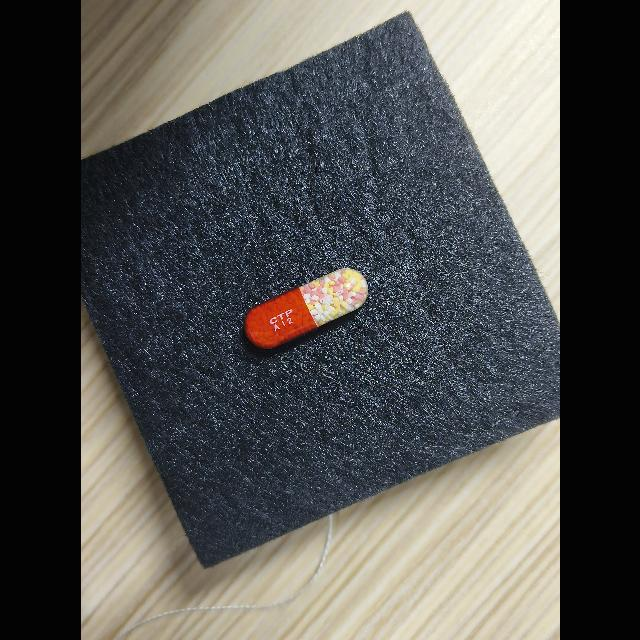Intact Capsule: (244, 268, 368, 349)
